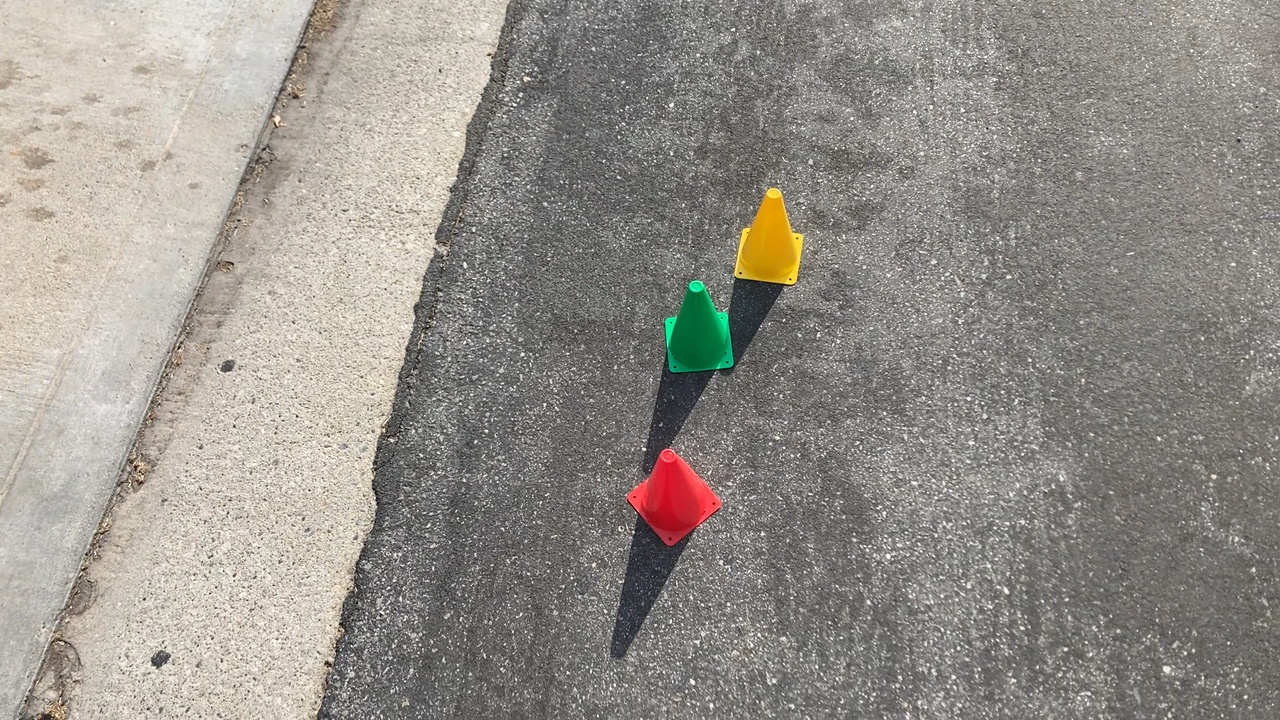green_cone: (661, 279, 739, 377)
red_cone: (625, 447, 724, 548)
yellow_cone: (733, 187, 804, 292)
